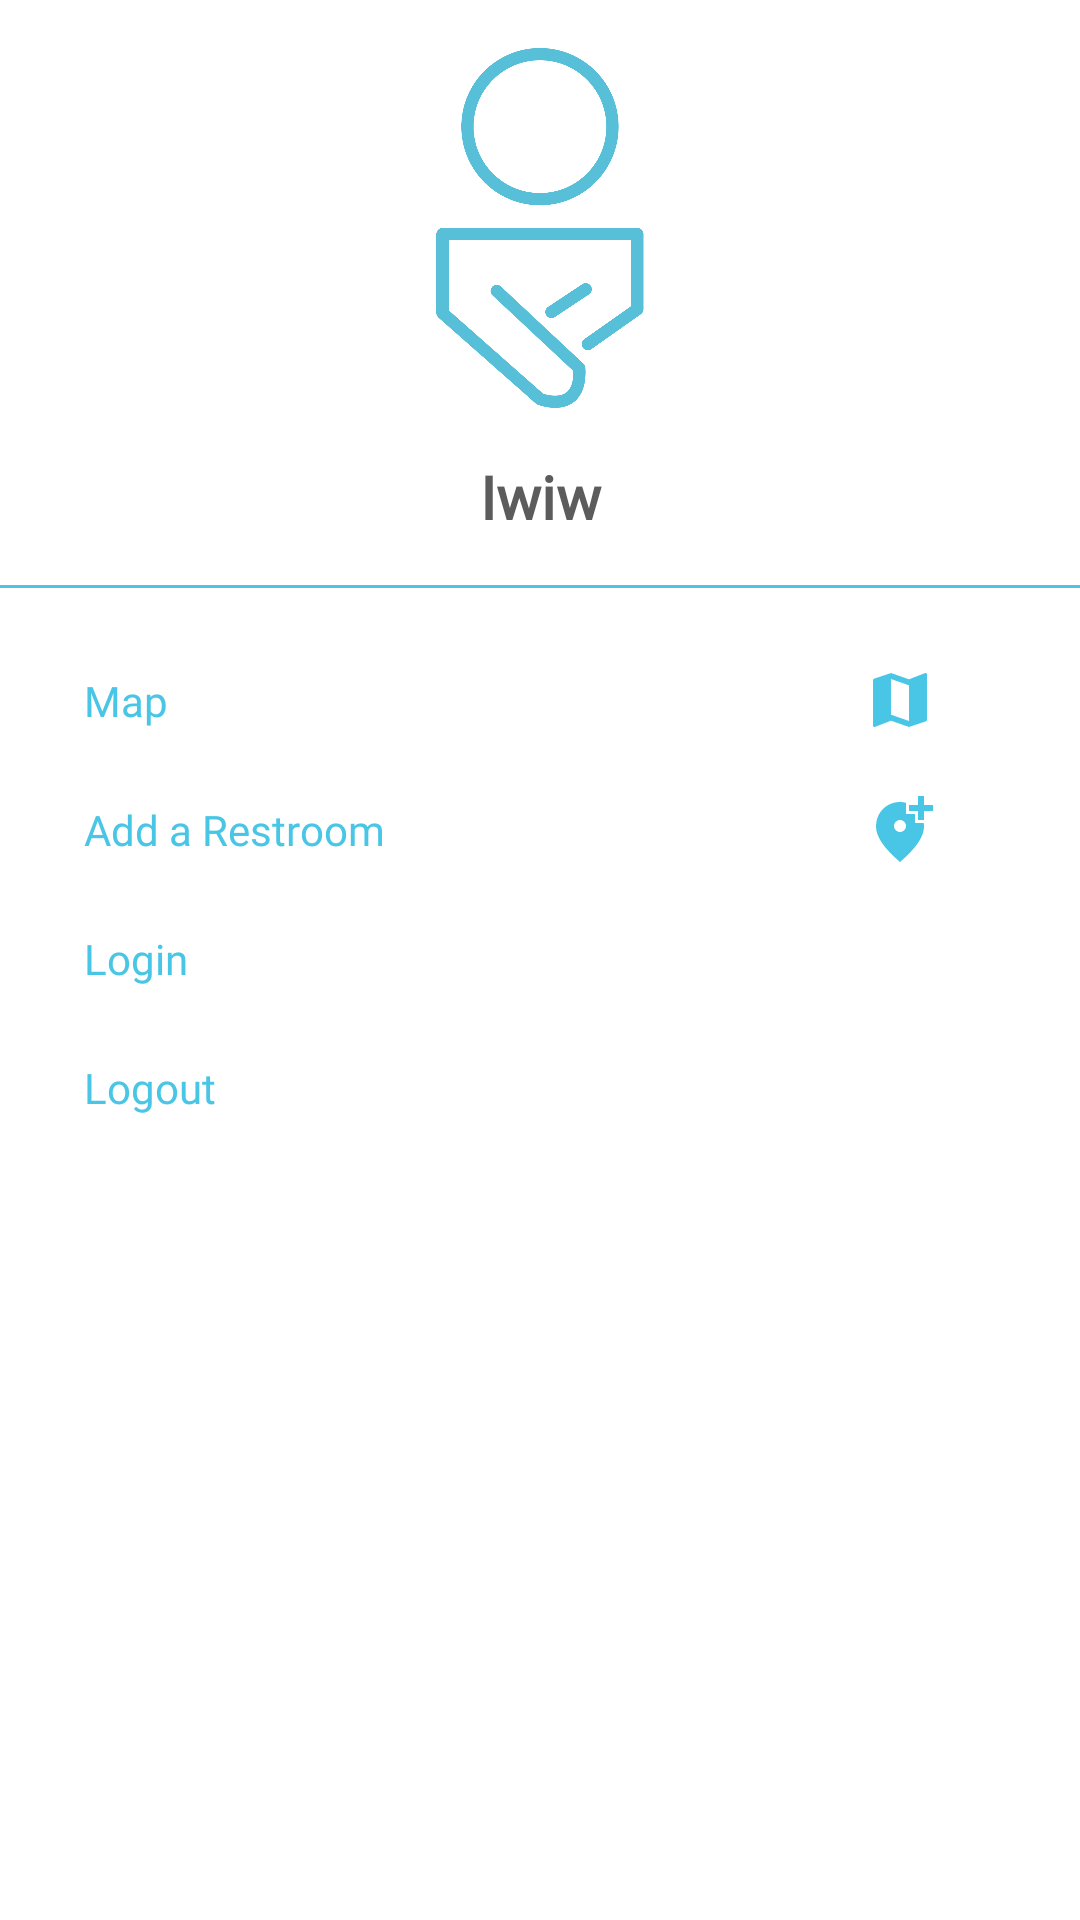

Named icons in this screenshot (1080 × 1920) and their bounding boxes, box=[x1, y1, x2, y2]:
add location: box=[876, 796, 933, 862]
